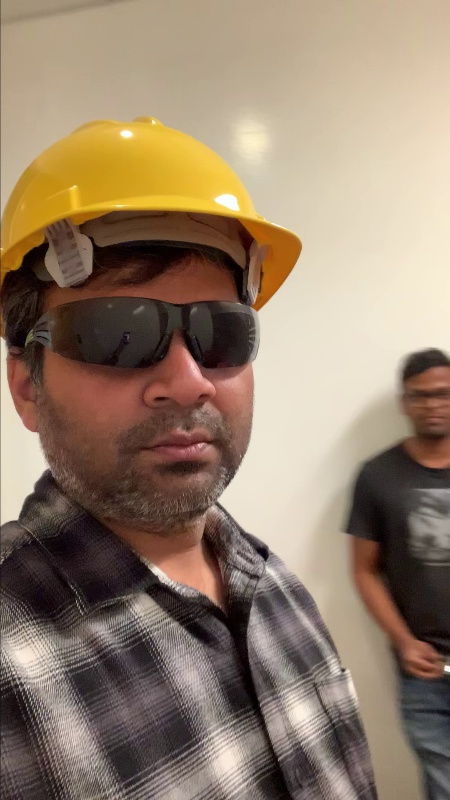glasses: (42, 289, 268, 378)
helmet: (1, 108, 304, 299)
